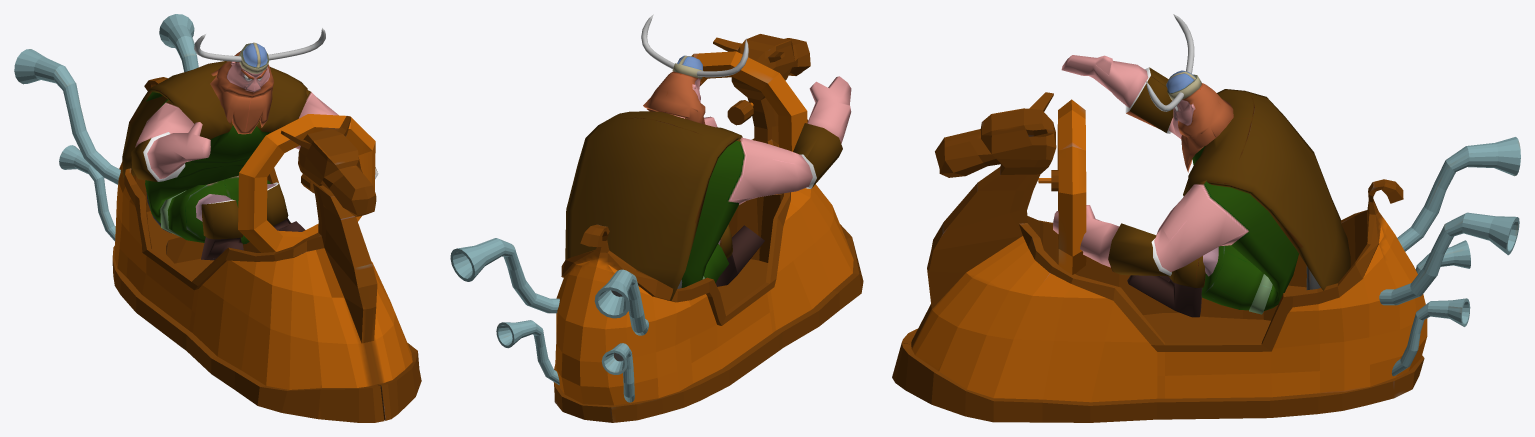
Rendered from vikingoVacile_000475.obj.
3 renders of one model, left to right at view 1: azimuth 30°, elevation 25°; view 2: azimuth 150°, elevation 25°; view 3: azimuth 270°, elevation 25°, orthographic. The views are drawn at different scales.
Visible parts, largest first — view 1: kartVikingo, Vikingo; view 2: kartVikingo, Vikingo; view 3: kartVikingo, Vikingo.
Part boxes in pixels (box(x1,y1,x2,y2)): kartVikingo: box(14, 14, 421, 422); Vikingo: box(122, 28, 378, 260); kartVikingo: box(450, 34, 863, 422); Vikingo: box(565, 14, 851, 300); kartVikingo: box(892, 92, 1520, 422); Vikingo: box(1053, 14, 1350, 317).
Bounding box in the file's own units: 4.79 × 6.13 × 10.31.
Materials: 2 (2 with a texture image).
